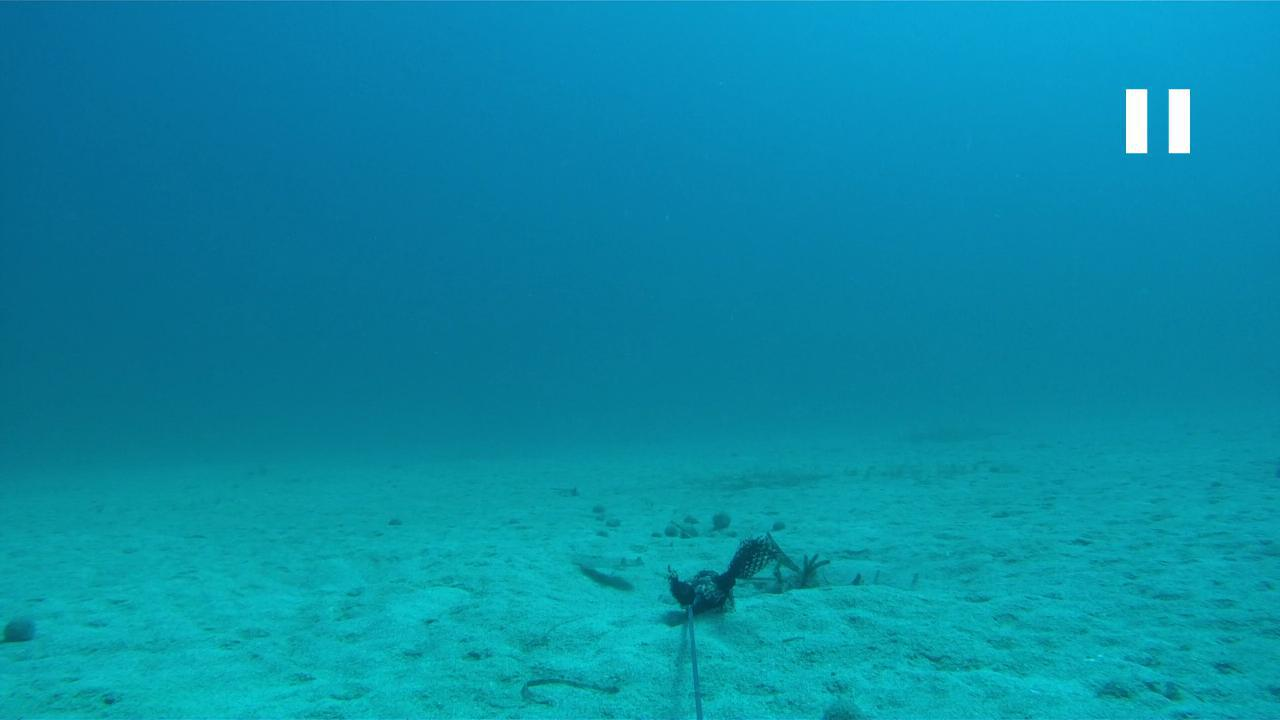bothus: (564, 548, 652, 592)
